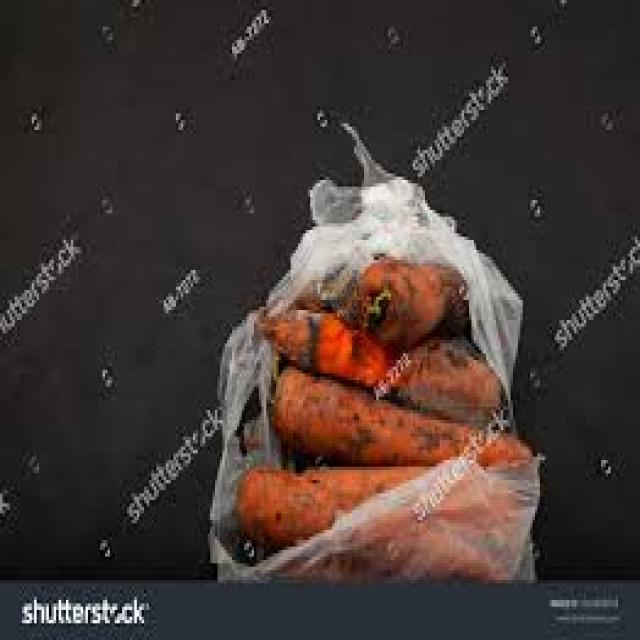Stale_Carrot: (242, 430, 524, 571), (275, 327, 517, 440)
